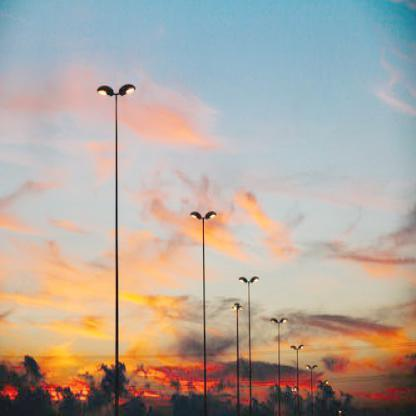on: (166, 187, 239, 240), (239, 269, 271, 303), (99, 80, 146, 98)
